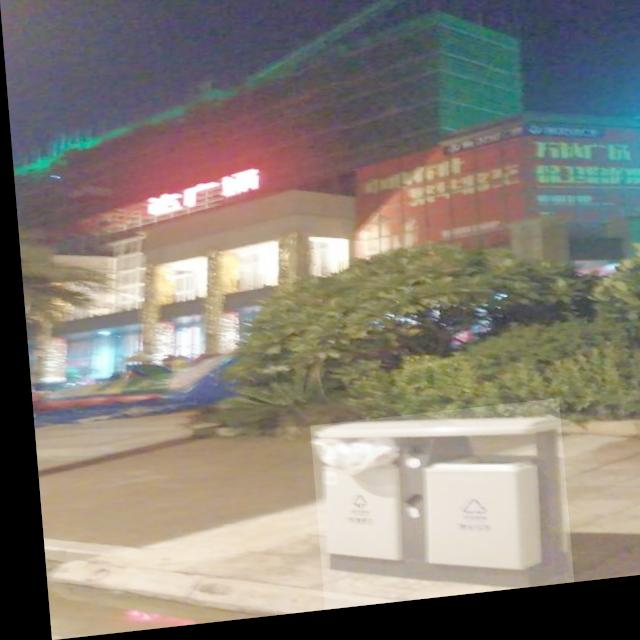overflow: (302, 411, 563, 616)
